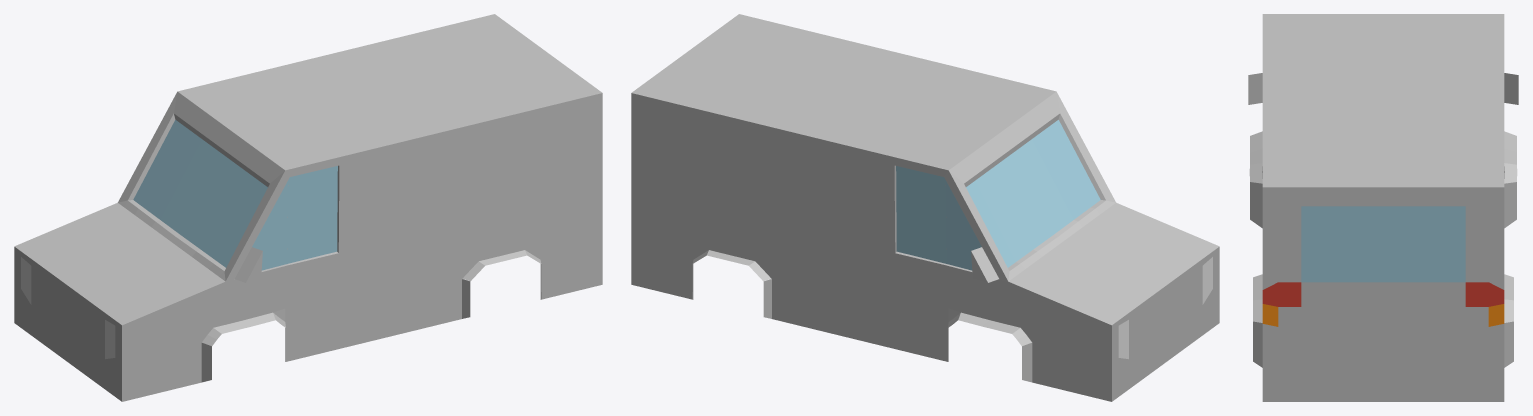
The model's file is DigiVan.fbx.
3 renders of one model, left to right at view 1: azimuth 30°, elevation 25°; view 2: azimuth 150°, elevation 25°; view 3: azimuth 270°, elevation 25°, orthographic. The views are drawn at different scales.
Parts seen in each view (by area): view 1: Cube; view 2: Cube; view 3: Cube.
Part boxes in pixels (<box>): Cube: <box>14,14,602,401</box>; Cube: <box>631,14,1219,401</box>; Cube: <box>1248,14,1518,401</box>.
Bounding box in the file's own units: 952 × 363 × 414.
